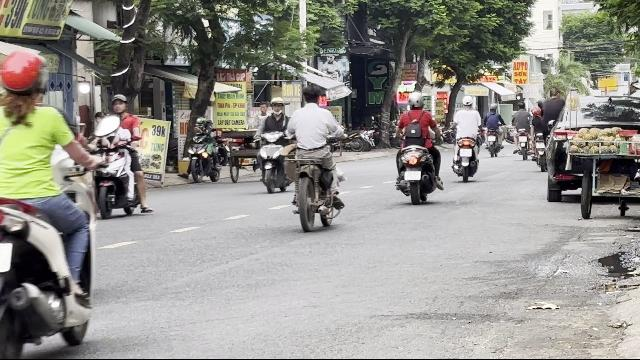helmet: (0, 48, 48, 105), (110, 93, 128, 114), (407, 90, 425, 110), (268, 96, 284, 116)
licenseplate: (404, 170, 422, 182)
motorcyclist: (0, 47, 104, 359), (283, 84, 347, 231), (84, 92, 150, 220), (391, 91, 443, 203), (254, 96, 292, 192)
nohelmet: (300, 86, 324, 106)
